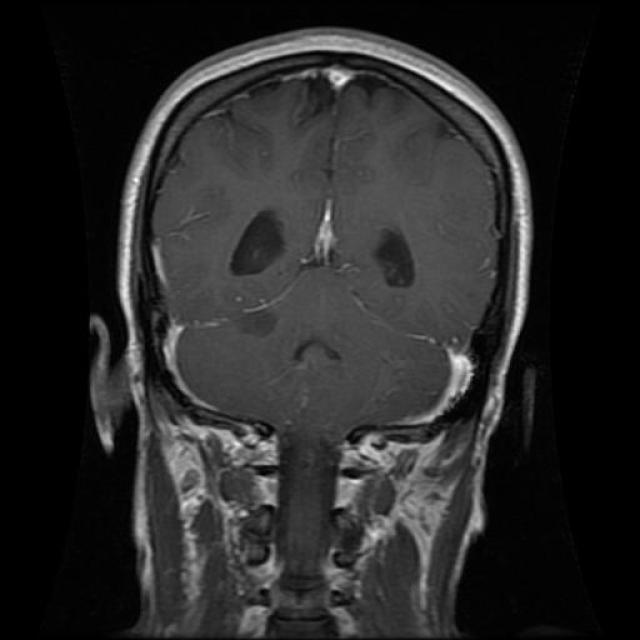glioma: (228, 196, 422, 306)
